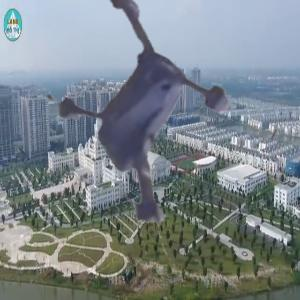drone: (30, 12, 287, 269)
